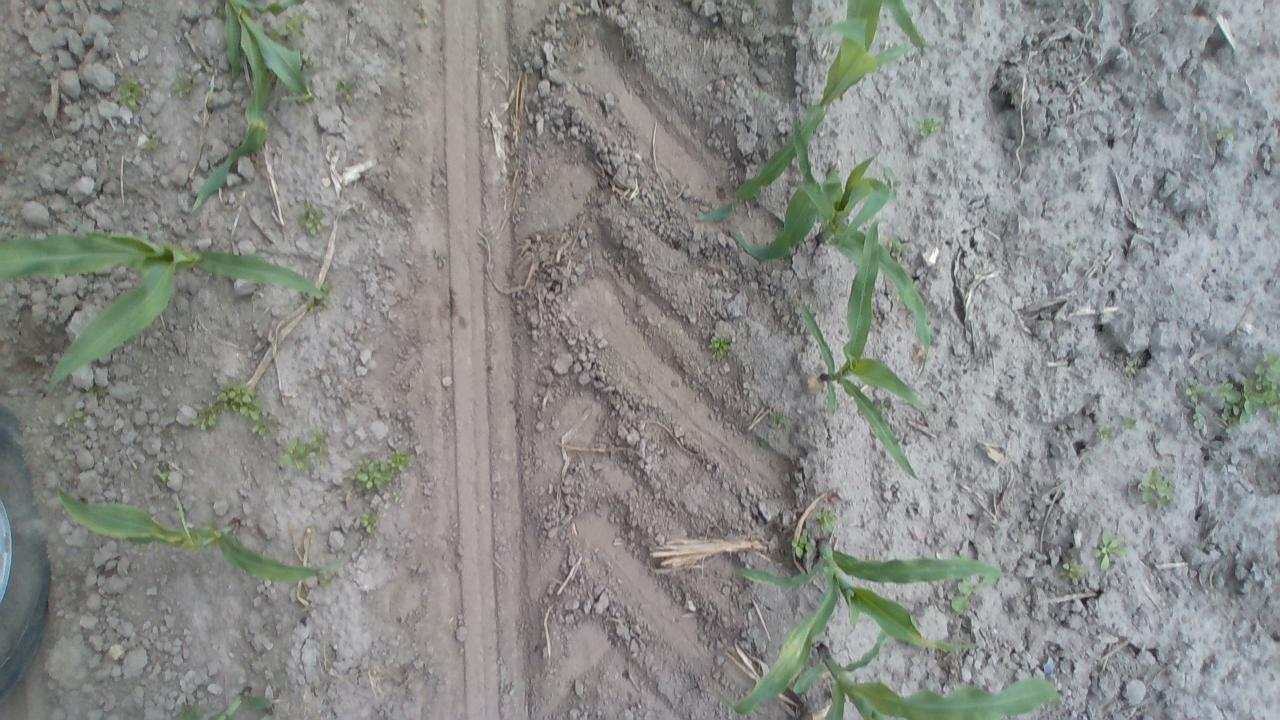Maize: (712, 102, 938, 372), (1, 216, 342, 390), (720, 522, 1024, 717), (698, 0, 942, 228), (794, 217, 939, 478), (43, 472, 364, 586), (755, 621, 1066, 718), (190, 0, 313, 221), (178, 678, 281, 718), (883, 0, 927, 47)
Weeds: (1210, 352, 1280, 437), (190, 378, 274, 439), (346, 447, 414, 499), (278, 428, 332, 475), (1132, 465, 1176, 511), (1094, 528, 1128, 574), (948, 576, 983, 616), (113, 73, 146, 112), (1184, 378, 1208, 431), (298, 202, 329, 242), (276, 11, 309, 43), (1060, 556, 1092, 588), (788, 527, 818, 561), (304, 279, 332, 314), (169, 68, 200, 99), (812, 503, 842, 533), (330, 76, 364, 102), (411, 3, 434, 36), (136, 130, 168, 152), (356, 510, 384, 535), (914, 114, 942, 138), (708, 334, 736, 358), (1215, 120, 1240, 146), (1092, 424, 1120, 445), (886, 236, 908, 262), (766, 409, 792, 430), (174, 700, 202, 718), (1119, 415, 1143, 436), (1122, 356, 1142, 381), (153, 466, 176, 487), (66, 407, 88, 428), (753, 435, 779, 452), (431, 248, 451, 270), (1063, 236, 1084, 256), (86, 382, 108, 401), (300, 52, 318, 72), (314, 571, 332, 590)
